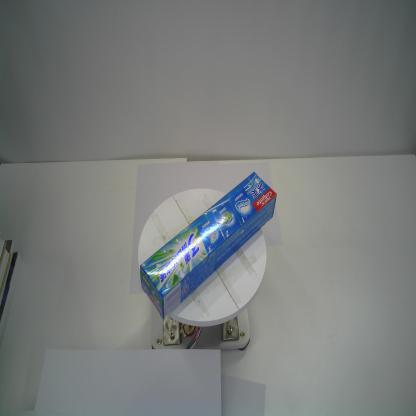Personal Hygiene: (139, 170, 278, 321)
